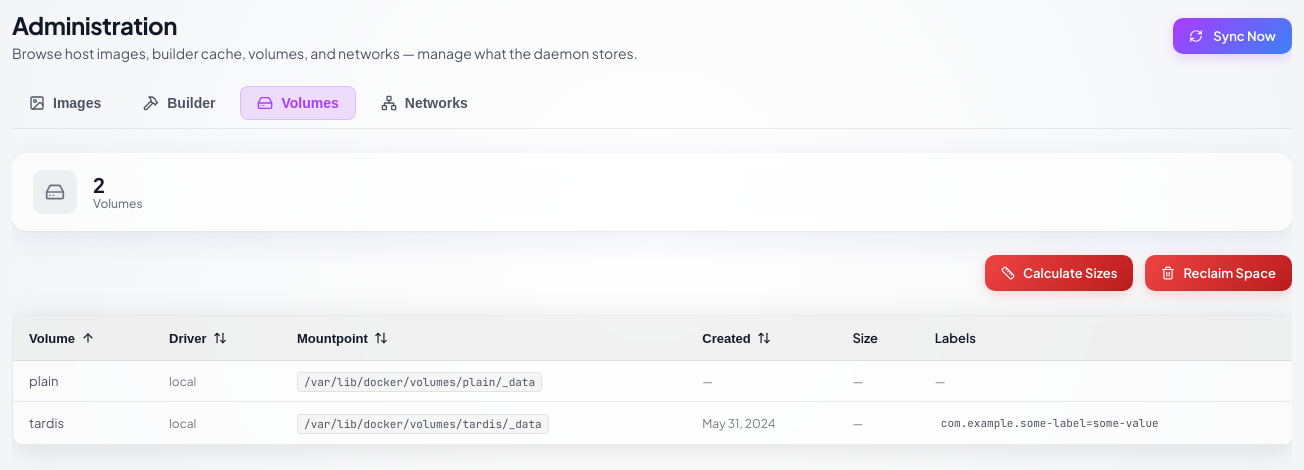
Test: Administration Component › calculates sizes on demand and fills the Size column
Expected: the text "tardis" is shown, top-left (29, 415), bottom-right (64, 431)
Click the button "Calculate Sizes". click: (1059, 273)
box: top-left (985, 255), bottom-right (1134, 291)
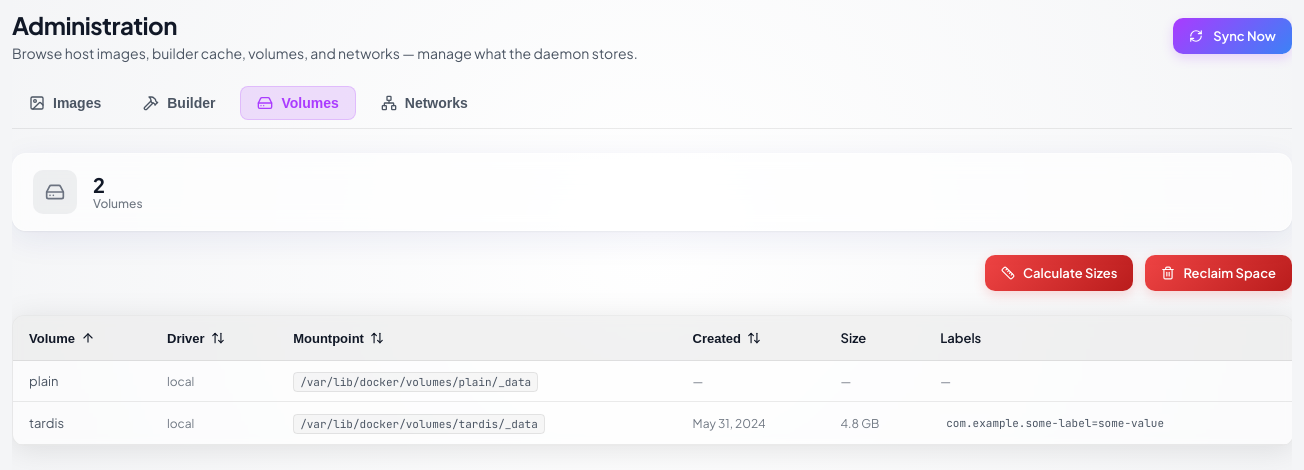
Expected: the text "—" is shown 3 times, top-left (693, 374), bottom-right (703, 389); top-left (841, 374), bottom-right (851, 389); top-left (940, 374), bottom-right (951, 389)
Now the text "4.8 GB" is shown, box top-left (841, 416), bottom-right (879, 431)
